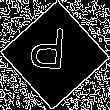P_S: (35, 29, 75, 81)
